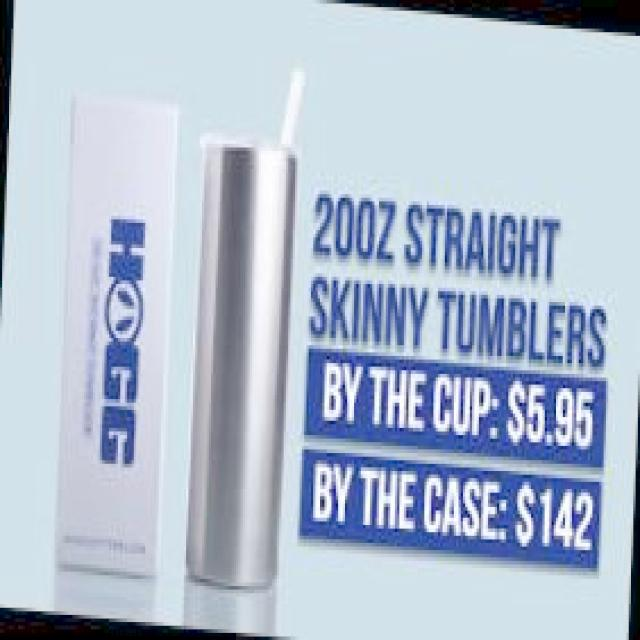bottle: (177, 56, 306, 598)
